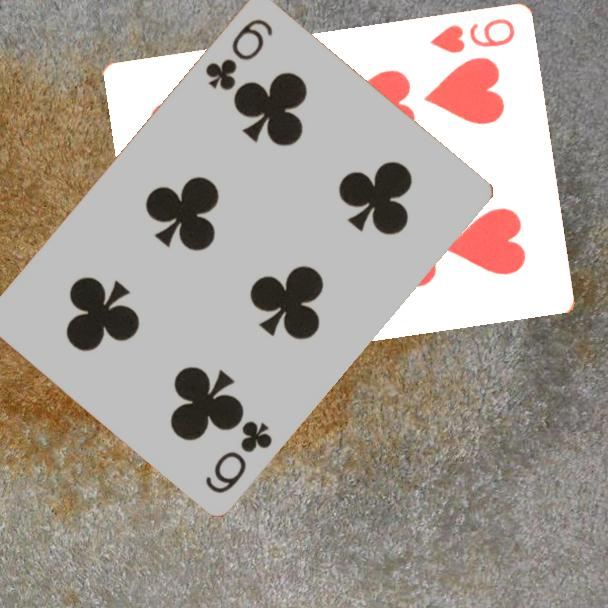c06: (201, 416, 276, 496), (201, 14, 276, 93)
h09: (426, 15, 517, 57)
